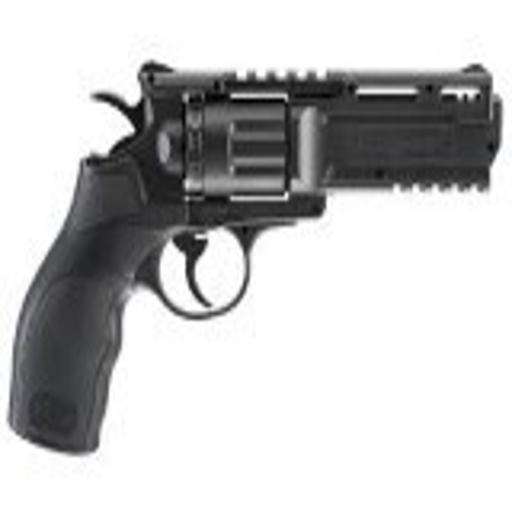Handgun: (5, 41, 501, 464)
